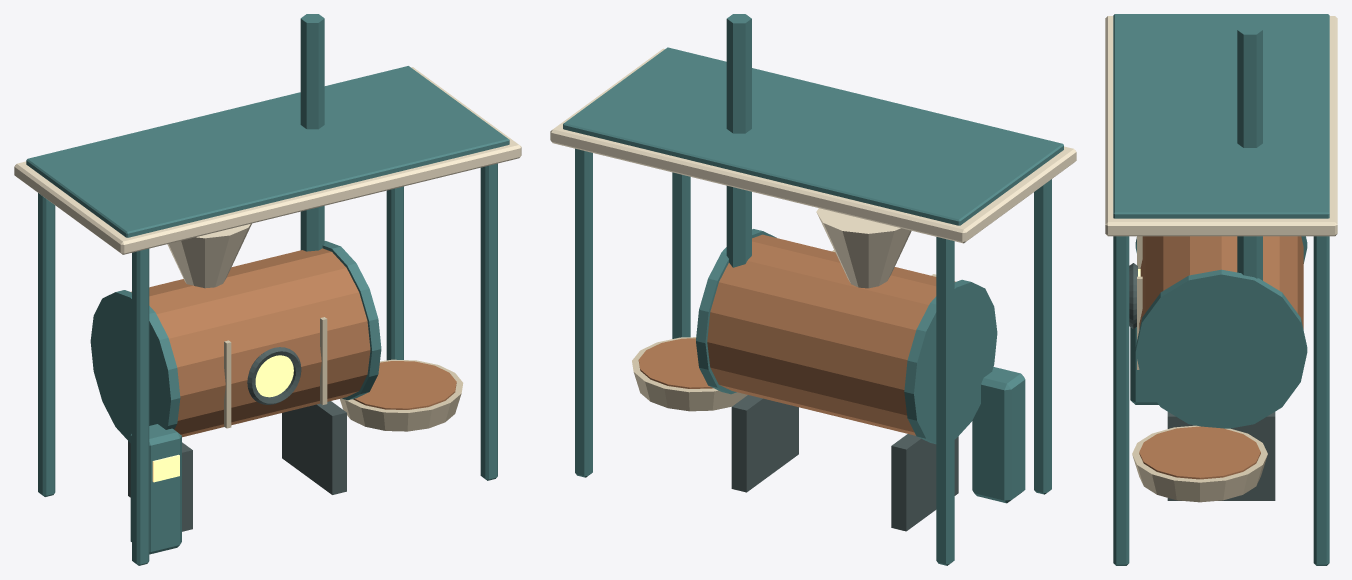
The model's file is hsc3_drum_roaster_7m.glb.
The picture shows the model from 3 angles, left to right: view 1: azimuth 30°, elevation 25°; view 2: azimuth 150°, elevation 25°; view 3: azimuth 270°, elevation 25°; orthographic projection. The views are drawn at different scales.
Visible parts, largest first — view 1: hsc3_drum_roaster_7m__hsc3-deep-teal, hsc3_drum_roaster_7m__hsc3-roasted-copper, hsc3_drum_roaster_7m__hsc3-pale-trim, hsc3_drum_roaster_7m__hsc3-charcoal-metal, hsc3_drum_roaster_7m__hsc3-cream-enamel, hsc3_drum_roaster_7m__hsc3-emissive-warm; view 2: hsc3_drum_roaster_7m__hsc3-deep-teal, hsc3_drum_roaster_7m__hsc3-roasted-copper, hsc3_drum_roaster_7m__hsc3-pale-trim, hsc3_drum_roaster_7m__hsc3-charcoal-metal, hsc3_drum_roaster_7m__hsc3-cream-enamel; view 3: hsc3_drum_roaster_7m__hsc3-deep-teal, hsc3_drum_roaster_7m__hsc3-roasted-copper, hsc3_drum_roaster_7m__hsc3-pale-trim, hsc3_drum_roaster_7m__hsc3-cream-enamel, hsc3_drum_roaster_7m__hsc3-charcoal-metal.
Part boxes in pixels (x1=…): hsc3_drum_roaster_7m__hsc3-deep-teal: x1=26, y1=14, x2=509, y2=565; hsc3_drum_roaster_7m__hsc3-roasted-copper: x1=131, y1=248, x2=456, y2=437; hsc3_drum_roaster_7m__hsc3-pale-trim: x1=14, y1=67, x2=521, y2=288; hsc3_drum_roaster_7m__hsc3-charcoal-metal: x1=128, y1=347, x2=346, y2=531; hsc3_drum_roaster_7m__hsc3-cream-enamel: x1=224, y1=317, x2=463, y2=431; hsc3_drum_roaster_7m__hsc3-emissive-warm: x1=152, y1=355, x2=293, y2=482; hsc3_drum_roaster_7m__hsc3-deep-teal: x1=563, y1=14, x2=1063, y2=565; hsc3_drum_roaster_7m__hsc3-roasted-copper: x1=638, y1=234, x2=955, y2=435; hsc3_drum_roaster_7m__hsc3-pale-trim: x1=550, y1=48, x2=1076, y2=288; hsc3_drum_roaster_7m__hsc3-charcoal-metal: x1=731, y1=395, x2=958, y2=531; hsc3_drum_roaster_7m__hsc3-cream-enamel: x1=632, y1=250, x2=936, y2=411; hsc3_drum_roaster_7m__hsc3-deep-teal: x1=1113, y1=14, x2=1329, y2=565; hsc3_drum_roaster_7m__hsc3-roasted-copper: x1=1139, y1=236, x2=1303, y2=479; hsc3_drum_roaster_7m__hsc3-pale-trim: x1=1105, y1=16, x2=1337, y2=236; hsc3_drum_roaster_7m__hsc3-cream-enamel: x1=1132, y1=236, x2=1267, y2=502; hsc3_drum_roaster_7m__hsc3-charcoal-metal: x1=1129, y1=263, x2=1275, y2=500.
Size of the model in its own units: 6.9 by 7.3 by 3.25.
